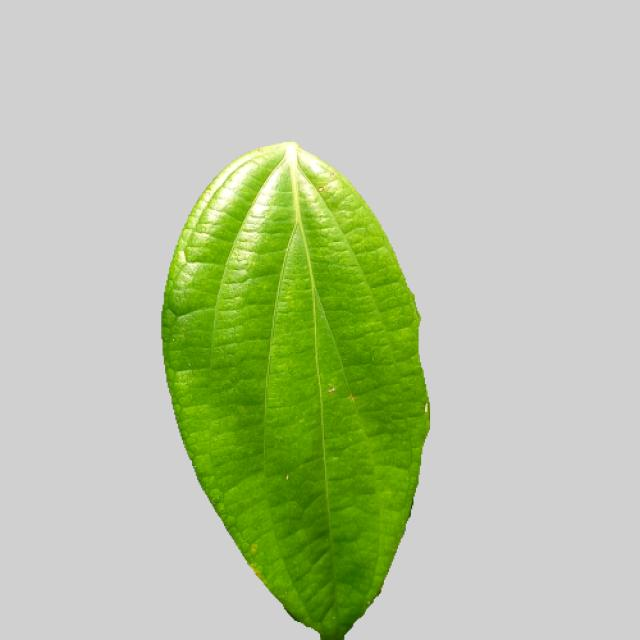healthy: (143, 139, 442, 638)
